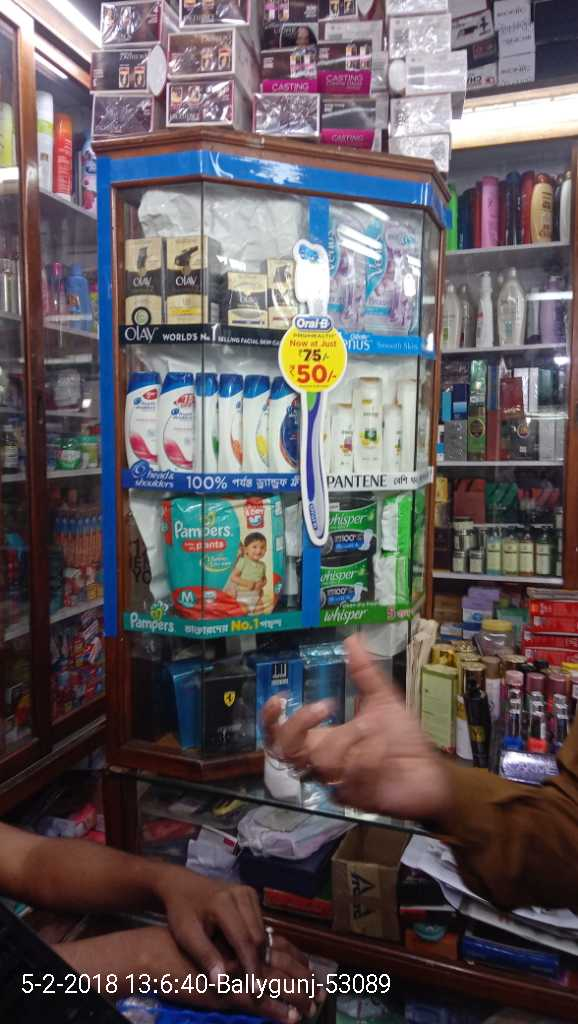venus: (364, 222, 418, 327), (329, 216, 364, 327)
